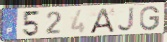2: (45, 10, 65, 36)
4: (69, 9, 88, 35)
5: (22, 10, 40, 38)
A: (88, 7, 116, 34)
G: (139, 5, 161, 32)
J: (117, 6, 136, 33)
